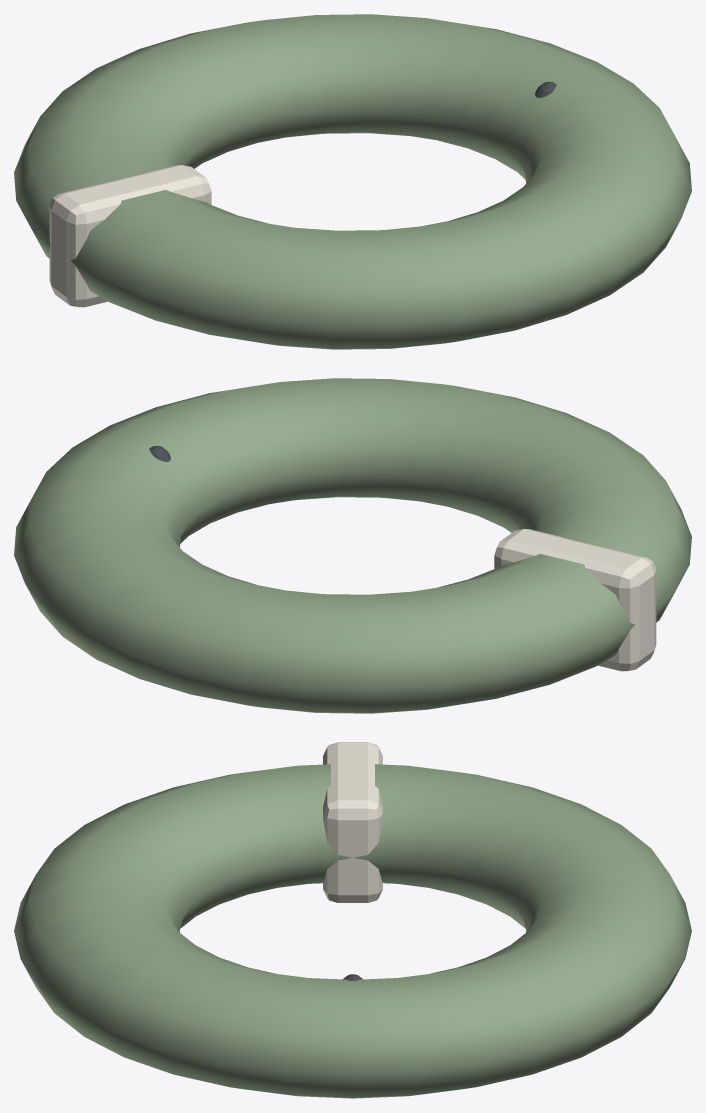
Rendered from pool_ring.glb.
The picture shows the model from 3 angles, top to bottom: view 1: azimuth 30°, elevation 25°; view 2: azimuth 150°, elevation 25°; view 3: azimuth 270°, elevation 25°; orthographic projection.
Parts seen in each view (by area): view 1: Rubber ring, Tint; view 2: Rubber ring, Tint; view 3: Rubber ring, Tint.
Boxes of the visible parts, left/top/right/bottom form: Rubber ring: left=14, top=14, right=691, bottom=349; Tint: left=49, top=165, right=211, bottom=307; Rubber ring: left=14, top=378, right=691, bottom=713; Tint: left=494, top=529, right=656, bottom=671; Rubber ring: left=14, top=764, right=691, bottom=1098; Tint: left=323, top=742, right=382, bottom=902.
Size of the model in its own units: 0.9 by 0.15 by 0.9.
